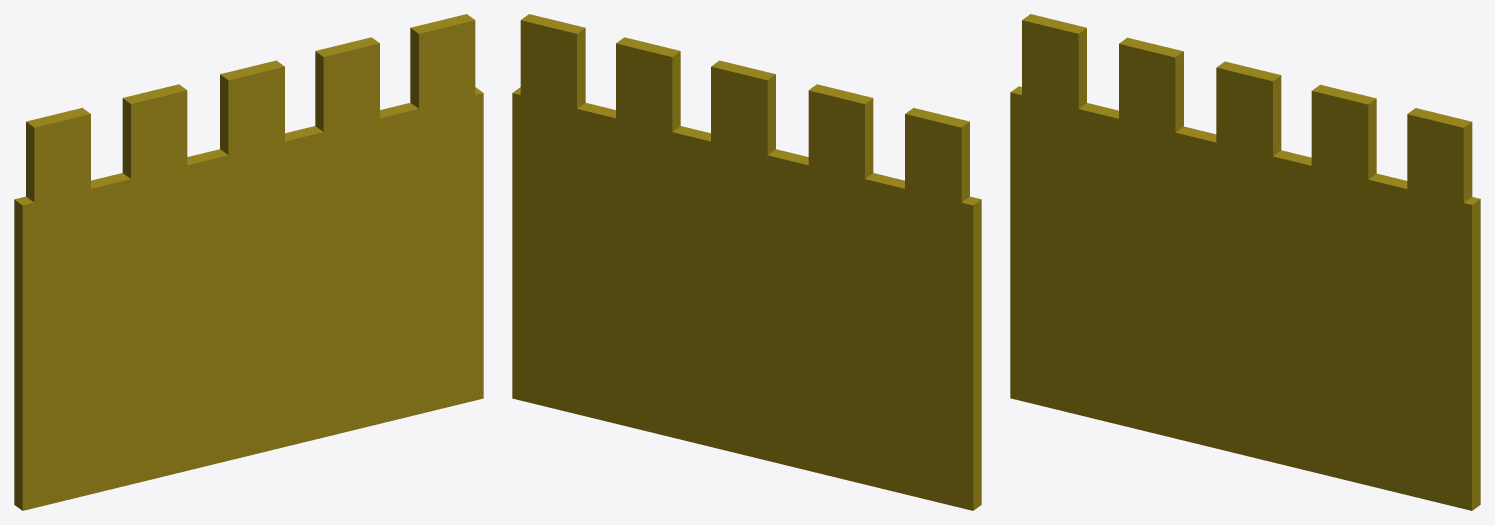
Rendered from wall1.obj.
The picture shows the model from 3 angles, left to right: view 1: azimuth 30°, elevation 25°; view 2: azimuth 150°, elevation 25°; view 3: azimuth 330°, elevation 25°; orthographic projection.
Parts seen in each view (by area): view 1: Cube, Cube.002, Cube.005, Cube.004, Cube.001, Cube.003; view 2: Cube, Cube.002, Cube.005, Cube.003, Cube.004, Cube.001; view 3: Cube, Cube.004, Cube.003, Cube.005, Cube.002, Cube.001.
Part boxes in pixels (<box>): Cube: <box>14,87,483,510</box>; Cube.002: <box>122,84,187,179</box>; Cube.005: <box>410,14,475,108</box>; Cube.004: <box>315,37,379,133</box>; Cube.001: <box>26,108,90,202</box>; Cube.003: <box>220,60,284,155</box>; Cube: <box>512,87,981,510</box>; Cube.002: <box>808,84,873,180</box>; Cube.005: <box>520,14,585,109</box>; Cube.003: <box>711,60,775,156</box>; Cube.004: <box>616,37,680,132</box>; Cube.001: <box>905,108,969,203</box>; Cube: <box>1010,86,1480,510</box>; Cube.004: <box>1311,84,1376,180</box>; Cube.003: <box>1216,61,1281,156</box>; Cube.005: <box>1407,108,1472,203</box>; Cube.002: <box>1119,37,1183,133</box>; Cube.001: <box>1022,14,1086,108</box>.
Bounding box in the file's own units: 10.54 × 8.31 × 0.3337.
